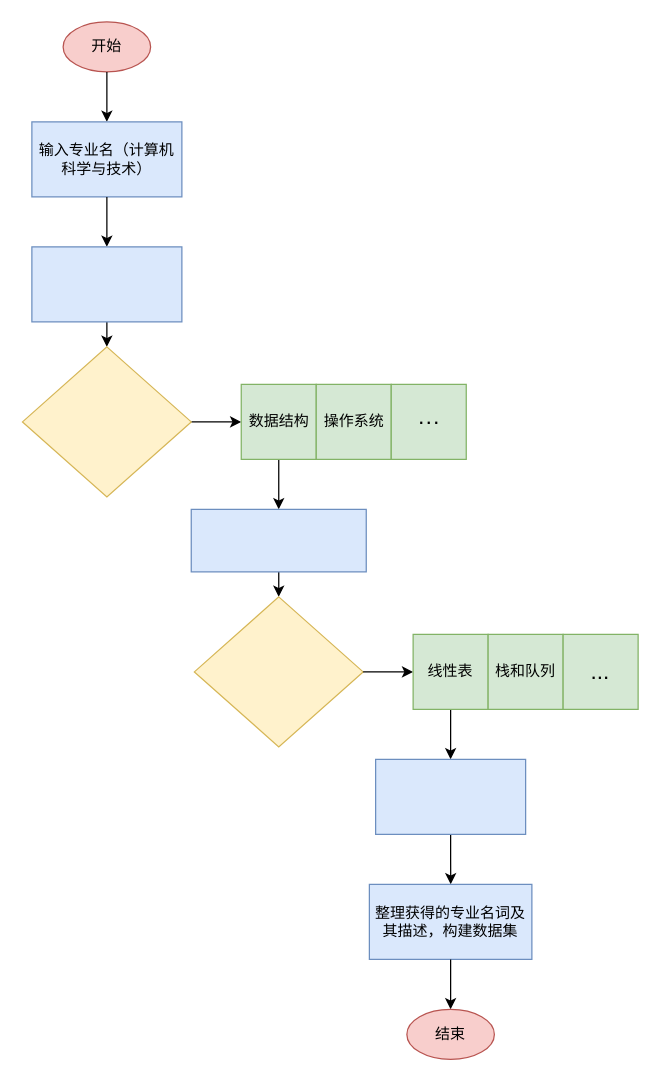
The diagram is 660 pixels wide and 1081 high, and some of its shapes have lost their labels. The shapes that lost their labels are listed below. From the top down, each one's centre as x and y in pixels, then its label:
At (x=106, y=284): "询问大模型该专业有哪些专业课".
At (x=106, y=421): "从大模型获得该 专业的专业课列表".
At (x=278, y=540): "询问大模型该专业课 （数据结构）有哪些章节".
At (x=278, y=671): "从大模型获得该 课程的章节列表".
At (x=450, y=796): "让大模型生成该章节（线性表）的专业名词及其描述".
